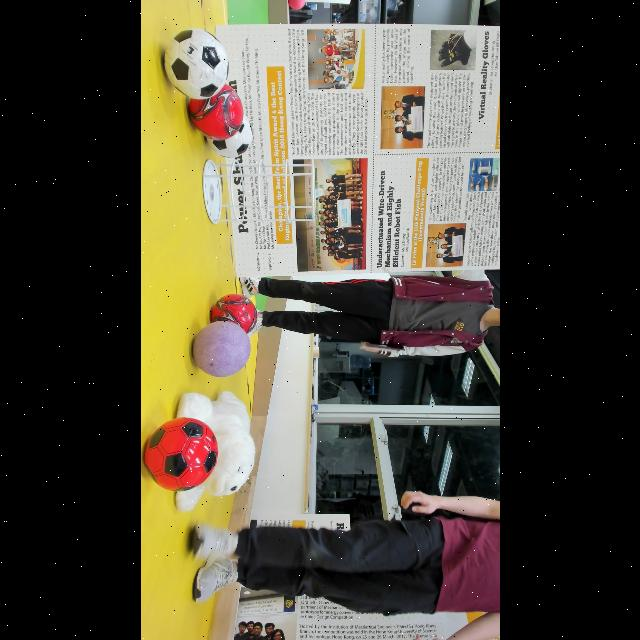P: (188, 320, 256, 380)
R: (140, 416, 222, 492), (183, 78, 245, 144), (208, 294, 260, 340), (287, 0, 305, 10)
S: (198, 152, 320, 232)
